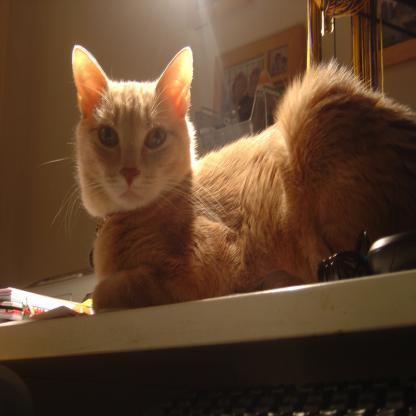cat: (62, 24, 407, 278)
